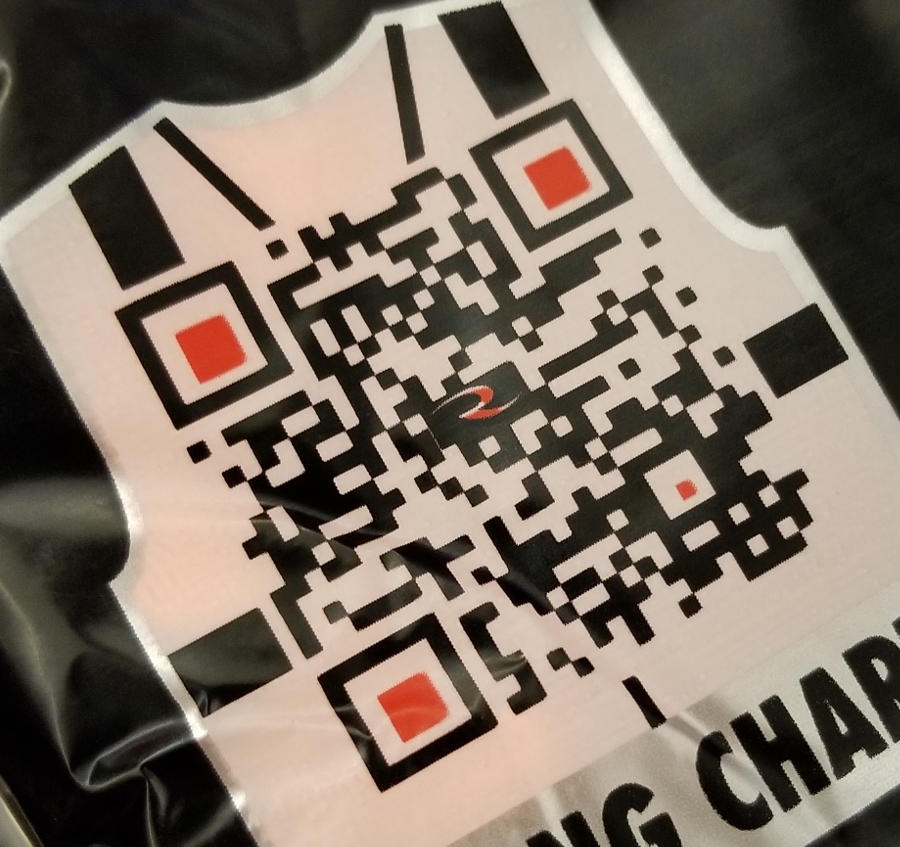QR_CODE: (90, 85, 824, 805)
